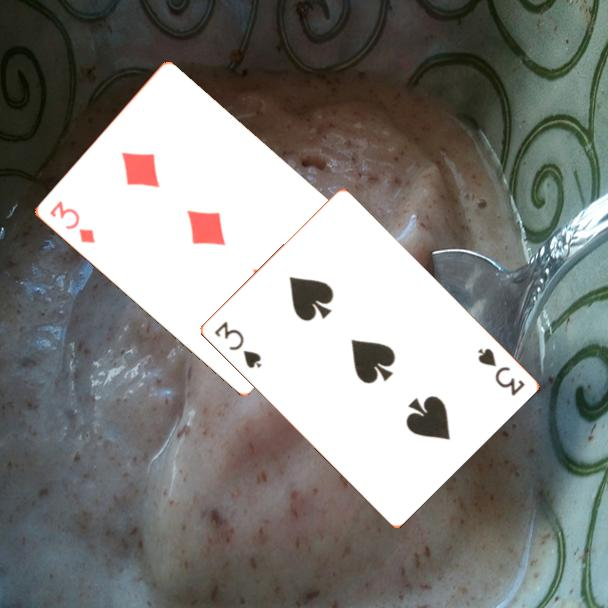d03: (45, 197, 98, 246)
s03: (474, 344, 528, 399), (210, 317, 264, 371)
